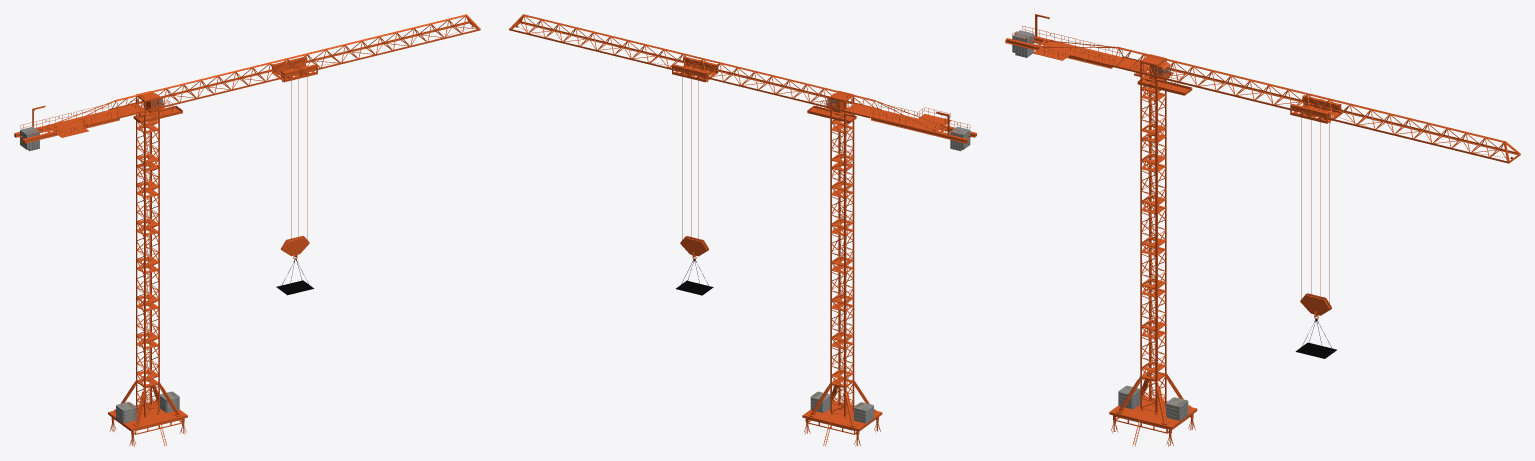
Rendered from TC-Crane_Okpo.glb.
The picture shows the model from 3 angles, left to right: view 1: azimuth 30°, elevation 25°; view 2: azimuth 150°, elevation 25°; view 3: azimuth 330°, elevation 25°; orthographic projection. The views are drawn at different scales.
Visible parts, largest first — view 1: TC_Top_Mesh, TC_Bottom; view 2: TC_Bottom, TC_Top_Mesh; view 3: TC_Bottom, TC_Top_Mesh.
Part boxes in pixels (<box>): TC_Top_Mesh: <box>14,14,480,295</box>; TC_Bottom: <box>108,91,187,446</box>; TC_Bottom: <box>802,91,882,446</box>; TC_Top_Mesh: <box>509,14,976,295</box>; TC_Bottom: <box>1109,54,1197,446</box>; TC_Top_Mesh: <box>1005,14,1520,358</box>.
Bounding box in the file's own units: 72.61 × 52.99 × 9.91.
Materials: 5 (4 with a texture image).
